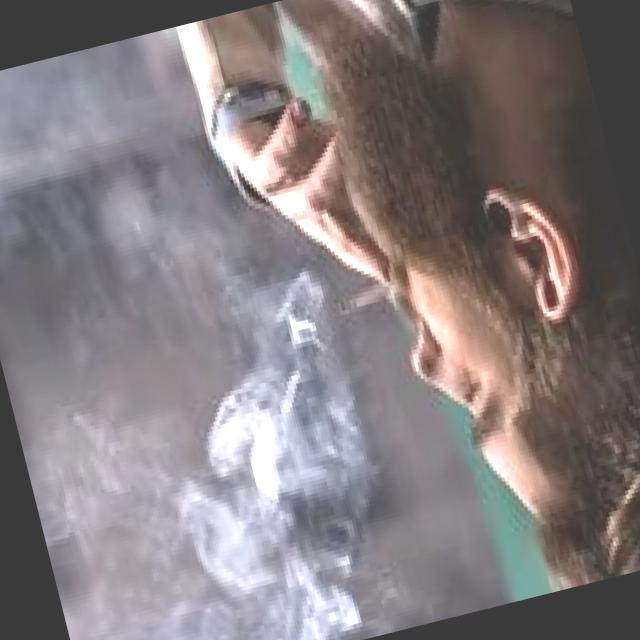cigarette: (330, 268, 400, 324)
